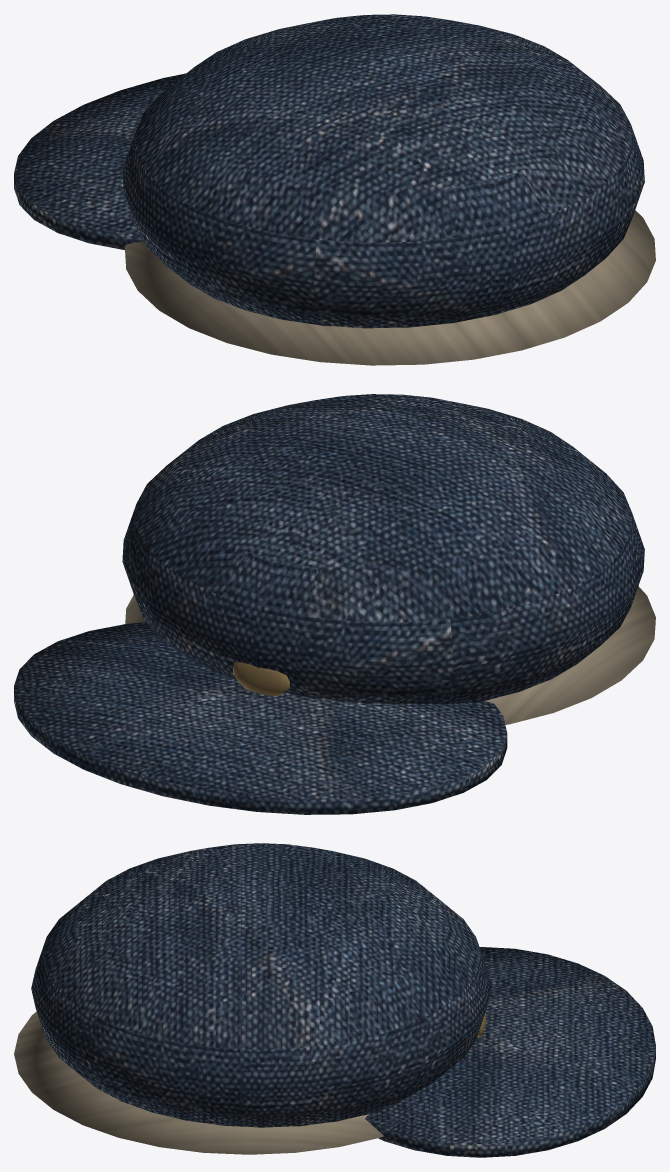
Rendered from fisher_cap.glb.
3 renders of one model, top to bottom at view 1: azimuth 30°, elevation 25°; view 2: azimuth 150°, elevation 25°; view 3: azimuth 270°, elevation 25°, orthographic. The views are drawn at different scales.
Parts seen in each view (by area): view 1: Navy fisher cap crown, Leather cap band; view 2: Navy fisher cap crown, Leather cap band, Brass cap badge; view 3: Navy fisher cap crown, Leather cap band.
Boxes of the visible parts, x1=… form: Navy fisher cap crown: x1=14, y1=14, x2=644, y2=328; Leather cap band: x1=125, y1=210, x2=655, y2=365; Navy fisher cap crown: x1=14, y1=394, x2=644, y2=814; Leather cap band: x1=125, y1=586, x2=655, y2=724; Brass cap badge: x1=233, y1=662, x2=289, y2=695; Navy fisher cap crown: x1=31, y1=843, x2=655, y2=1157; Leather cap band: x1=14, y1=1011, x2=384, y2=1154.
Bounding box in the file's own units: 0.278 × 0.138 × 0.3738.
Materials: 3 (2 with a texture image).
